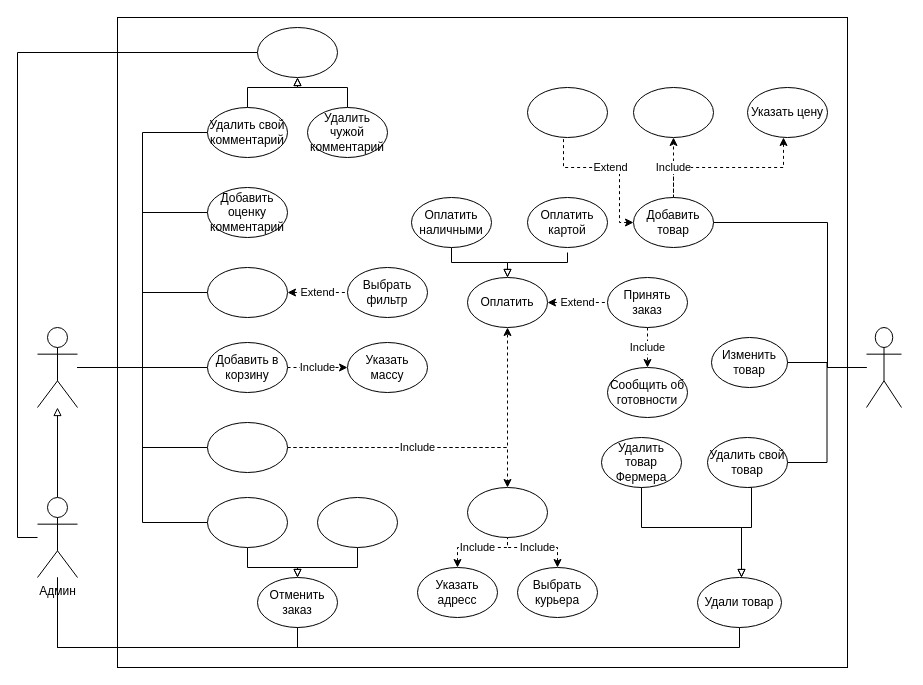
The diagram is 923 pixels wide and 685 high, and some of its shapes have lost their labels. The shapes that lost their labels are listed below. From the top down, each one's centre as x and y in pixels, then its label:
point (297, 52): Удалить комментарий
point (567, 112): Указать описание и фото
point (673, 112): Указать наличие
point (247, 292): Просмотр каталога
point (57, 367): Пользователь
point (884, 367): Фермер
point (247, 447): Сделать заказ
point (247, 522): Отменить свой
point (357, 522): Отменить пользователя
point (507, 512): Заказать доставку
